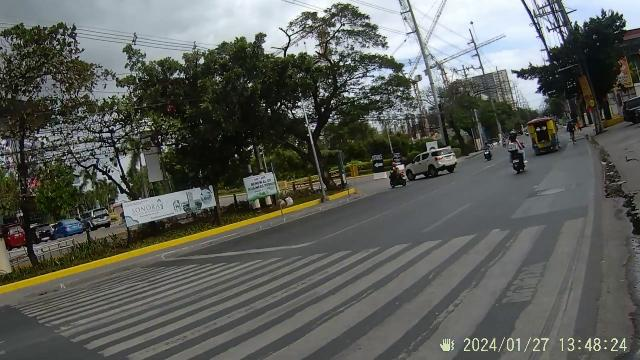car: (527, 114, 563, 156)
